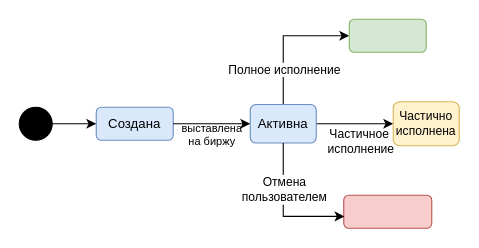
The diagram is 479 pixels wide and 248 high, and some of its shapes have lost their labels. Each missing label, with the box of its shape:
Исполнена: (348, 18, 426, 52)
Отмена: (343, 194, 432, 228)
